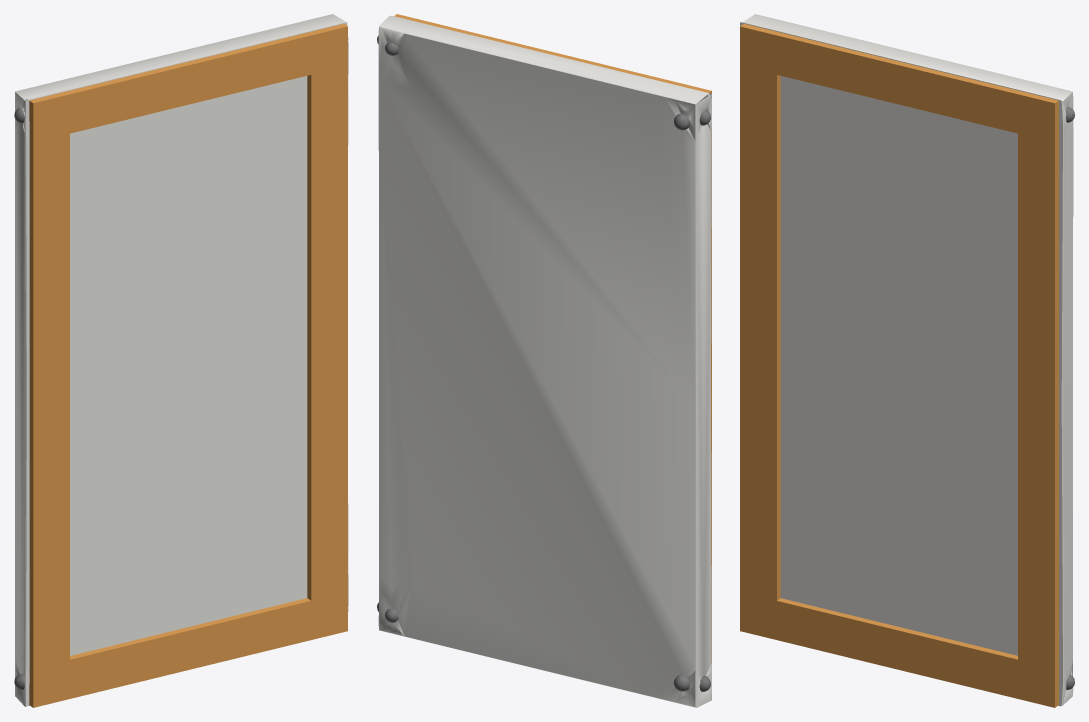
Rendered from Project Canvas2.fbx.
3 views of the same model, side by side, from view 1: azimuth 30°, elevation 25°; view 2: azimuth 150°, elevation 25°; view 3: azimuth 330°, elevation 25° (orthographic).
Parts seen in each view (by area): view 1: Sphere.002, Cube; view 2: Sphere.002, Cube; view 3: Sphere.002, Cube.
Boxes of the visible parts, <box> form: Sphere.002: <box>14,14,348,706</box>; Cube: <box>29,23,347,707</box>; Sphere.002: <box>377,15,711,707</box>; Cube: <box>394,14,711,662</box>; Sphere.002: <box>740,14,1074,706</box>; Cube: <box>740,23,1058,707</box>.
Size of the model in its own units: 210 by 368 by 23.28.
